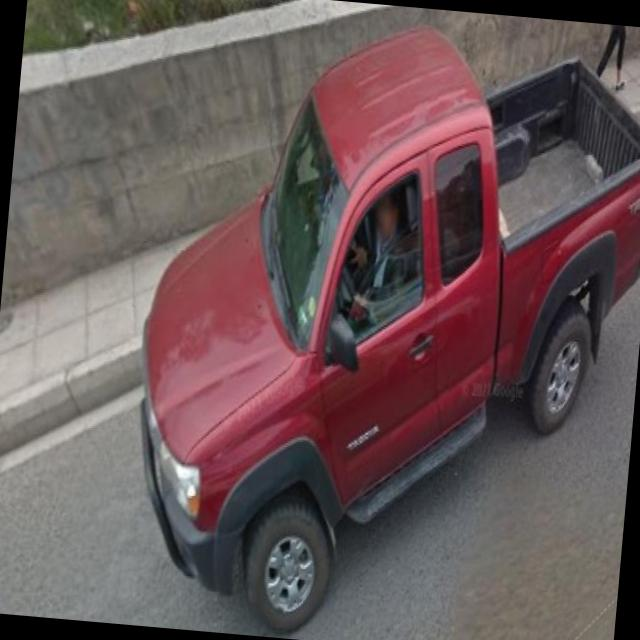car: (103, 5, 640, 640)
